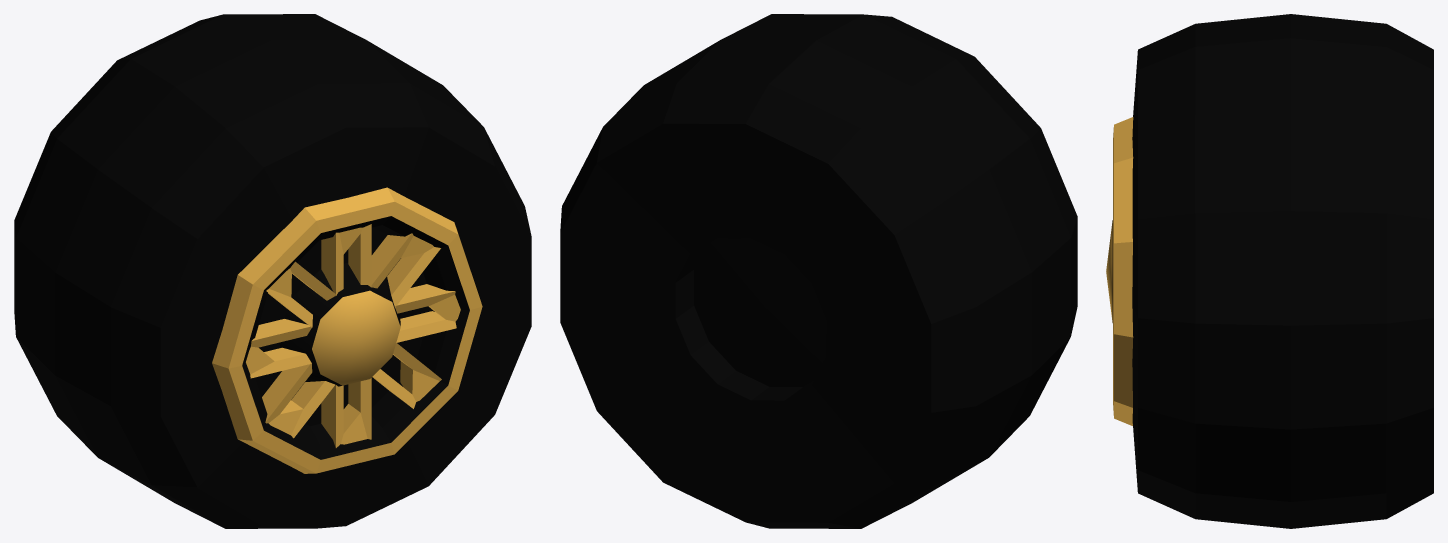
File: wheel12.fbx
3 renders of one model, left to right at view 1: azimuth 30°, elevation 25°; view 2: azimuth 150°, elevation 25°; view 3: azimuth 270°, elevation 25°, orthographic.
Visible parts, largest first — view 1: lanot_wheel10_L; view 2: lanot_wheel10_L; view 3: lanot_wheel10_L.
Part boxes in pixels (x1,y1,x2,y2): lanot_wheel10_L: (14, 14, 531, 528); lanot_wheel10_L: (560, 14, 1077, 528); lanot_wheel10_L: (1106, 14, 1433, 528).
Size of the model in its own units: 152 by 156 by 99.21.
